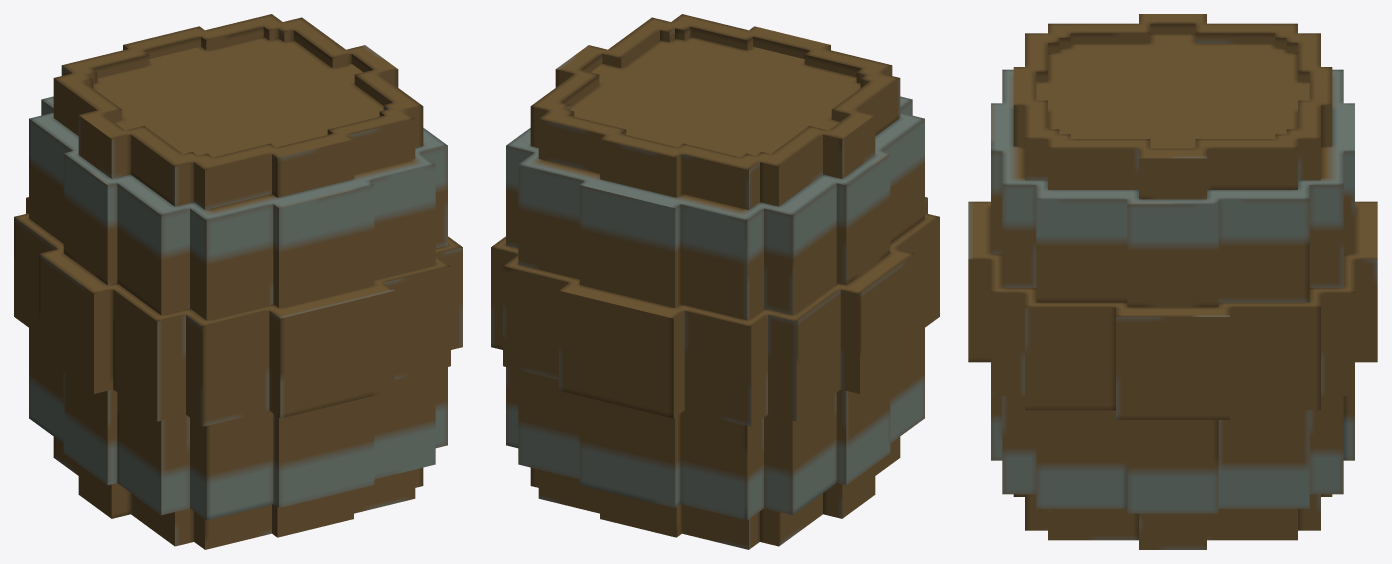
File: Barrel.obj
The picture shows the model from 3 angles, left to right: view 1: azimuth 30°, elevation 25°; view 2: azimuth 150°, elevation 25°; view 3: azimuth 270°, elevation 25°; orthographic projection. The views are drawn at different scales.
Parts seen in each view (by area): view 1: Barrel; view 2: Barrel; view 3: Barrel.
Part boxes in pixels (x1,y1,x2,y2): Barrel: (14,14,462,549); Barrel: (491,14,939,549); Barrel: (968,14,1377,549).
Bounding box in the file's own units: 3.6 × 3.8 × 3.6.
Materials: 1 (1 with a texture image).
